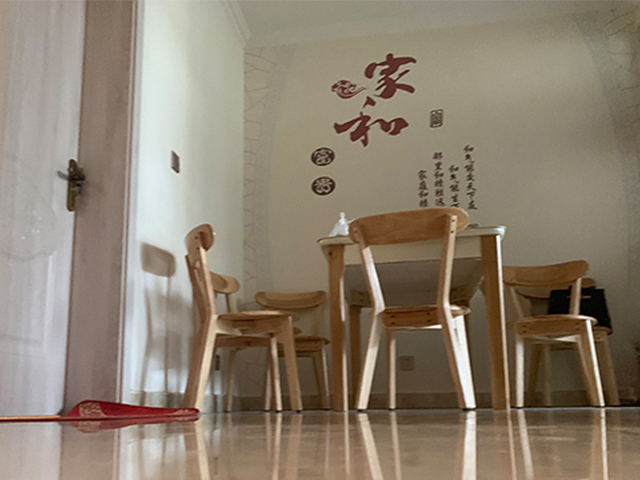carpet: (1, 398, 202, 422)
stool: (348, 205, 478, 412), (181, 224, 303, 414), (503, 261, 605, 409), (254, 290, 332, 412)
table: (318, 224, 511, 412)
